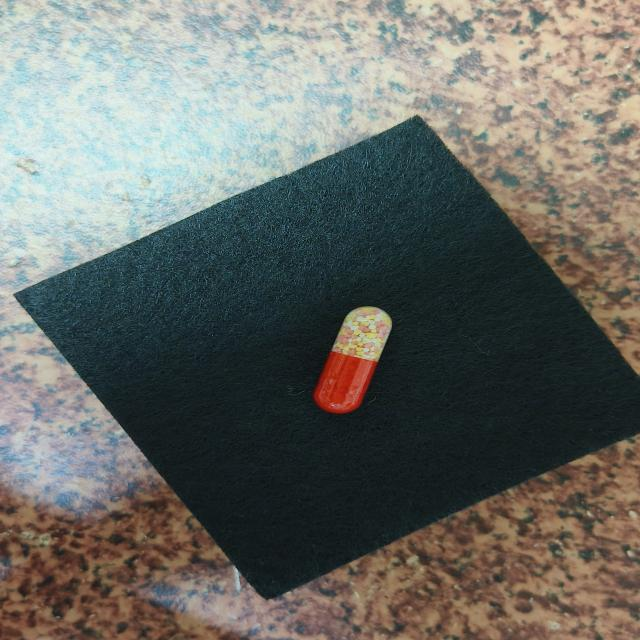Intact Capsule: (313, 306, 392, 414)
